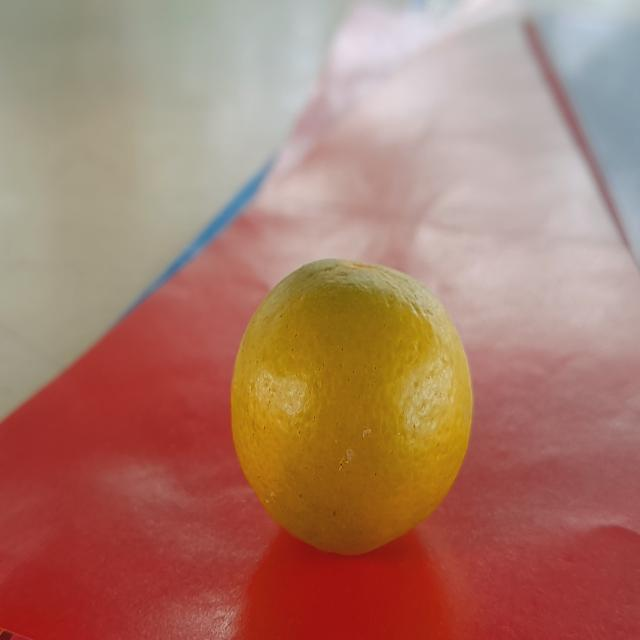greening: (219, 239, 480, 555)
